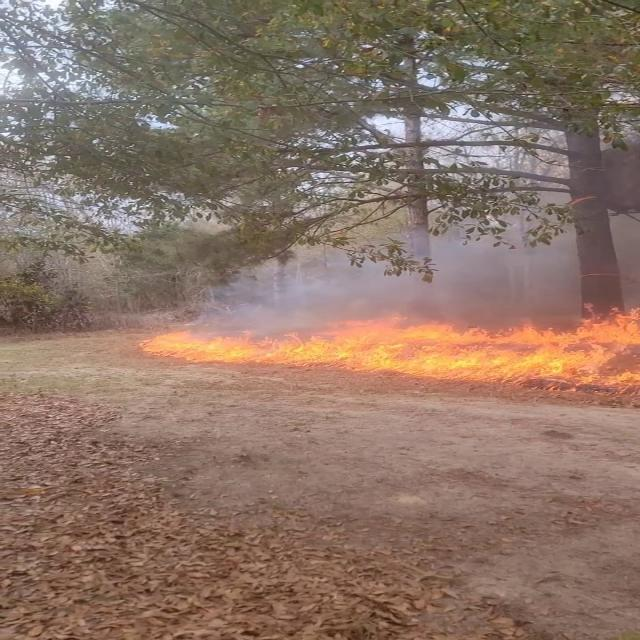Fire: (139, 314, 639, 377)
Smoke: (176, 213, 624, 335)
